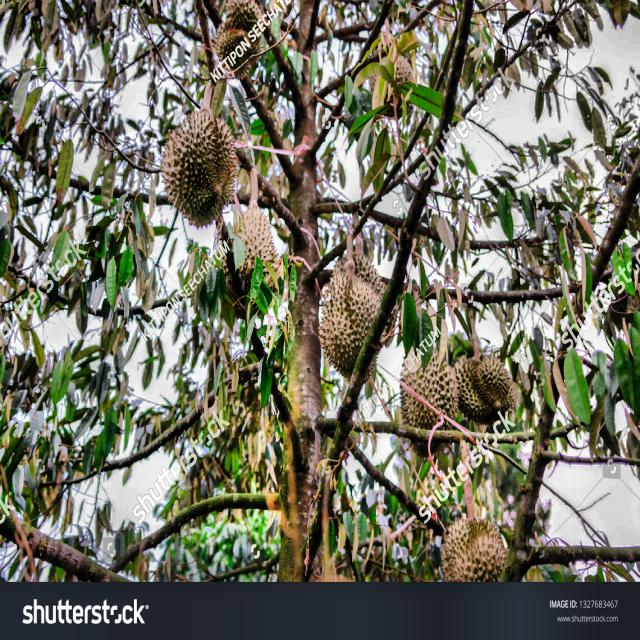arvore: (266, 5, 358, 573)
